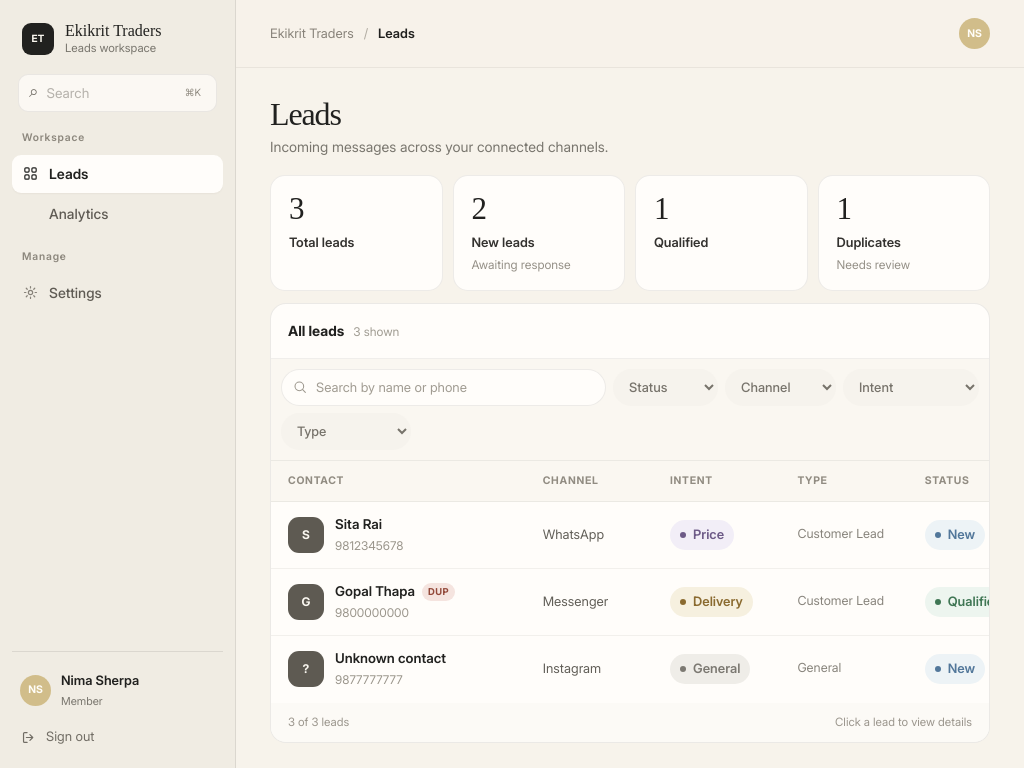
Test case: DashboardPage — filters › shows "Clear filters" only once a filter or search is active, and clears both
Expected: the text "Sita Rai" is shown, x1=335 y1=516 x2=382 y2=532
Expected: the text "Clear filters" is not shown
In the field with placeholder "Search by name or phone": point(444, 387) x1=281 y1=369 x2=606 y2=406, type "Sita"
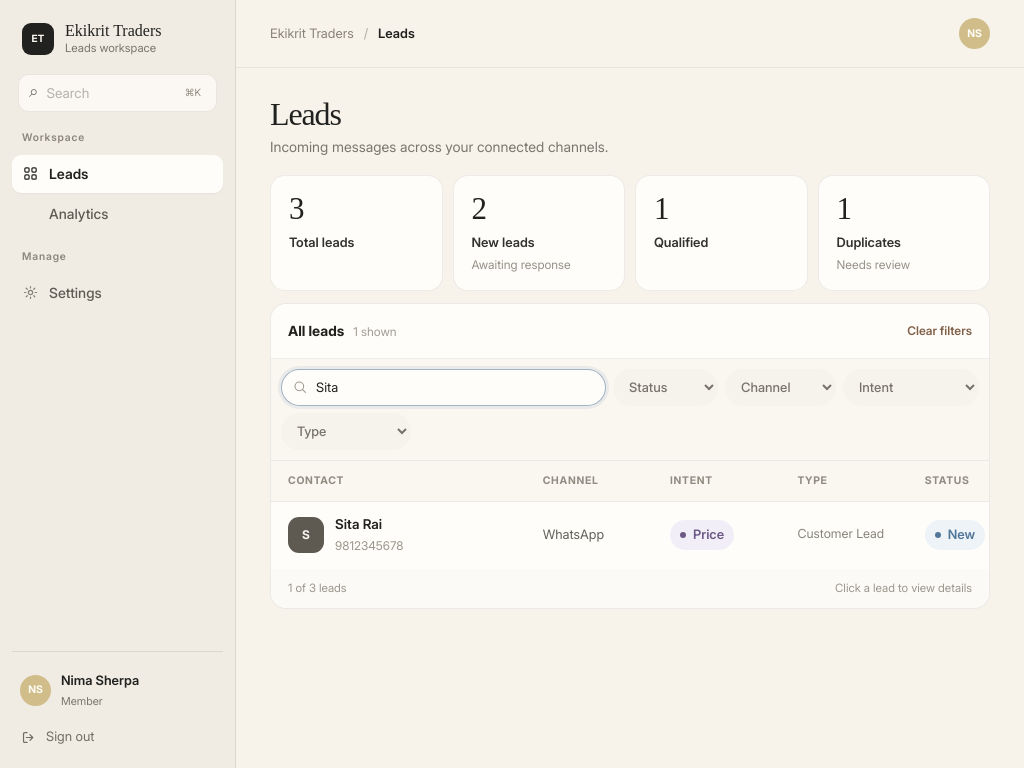
Result: the button "Clear filters" is shown
Click the button "Clear filters": point(940, 331) x1=907 y1=322 x2=972 y2=340
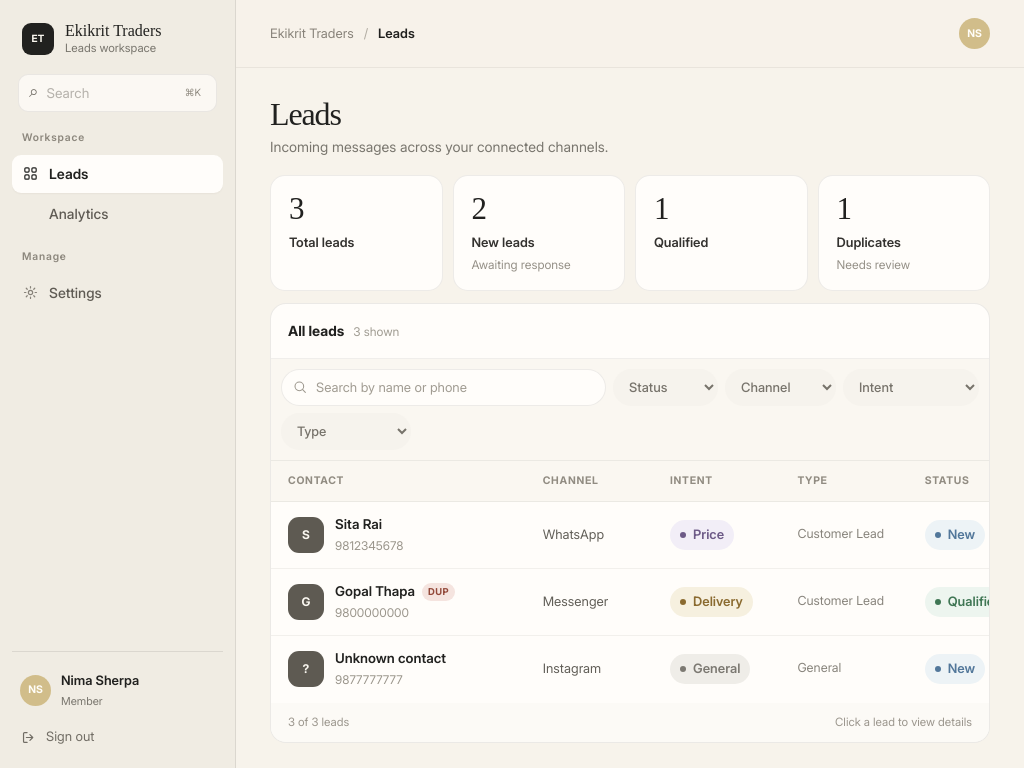
Result: the field with placeholder "Search by name or phone" is empty at x1=281 y1=369 x2=606 y2=406
Result: the button "Clear filters" is gone
